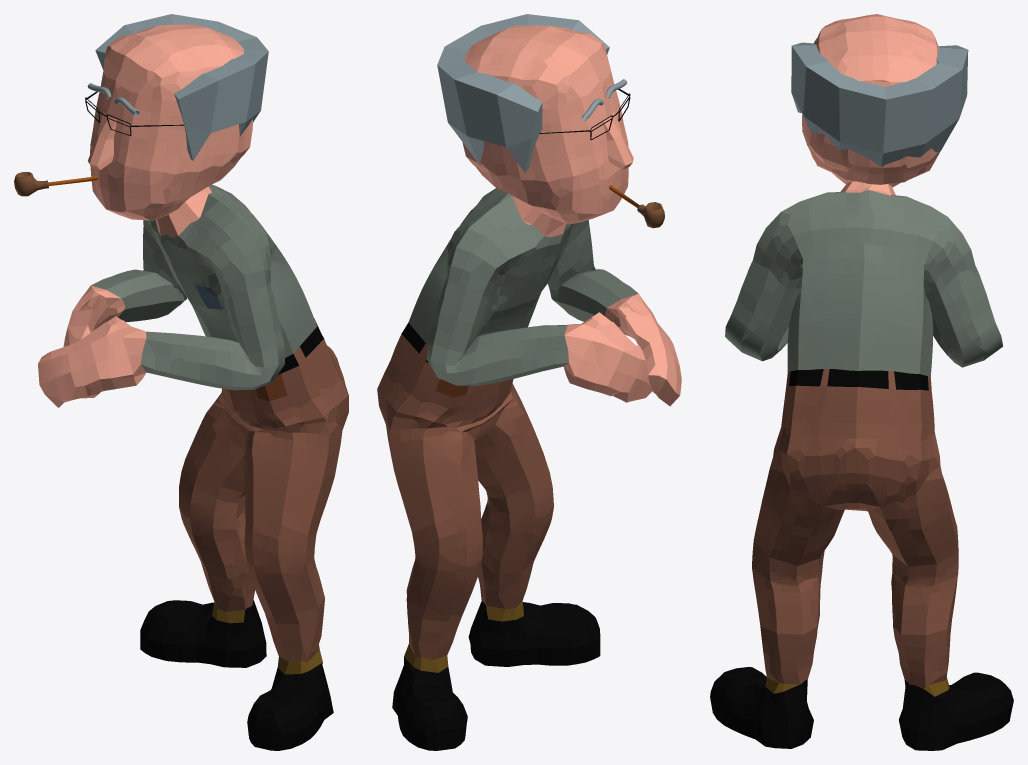
Rendered from NPC_OldMan.obj.
3 views of the same model, side by side, from view 1: azimuth 30°, elevation 25°; view 2: azimuth 150°, elevation 25°; view 3: azimuth 270°, elevation 25° (orthographic).
Parts seen in each view (by area): view 1: Humanoide_Base_Humanoide_Base_Base_NPC__characterMedium_9cb279e_, Pelo_hair04_boy.001_Pelo_hair04_boy.001_OldmanMaterial_Pelo_hair, nariz_nariz_nariz_nariz_nariz_1.003_nariz_nariz_nariz_n_0930e39_, Pipe_Pipe_OldmanMaterial_Pipe_Pipe_OldmanMaterialmesh; view 2: Humanoide_Base_Humanoide_Base_Base_NPC__characterMedium_9cb279e_, Pelo_hair04_boy.001_Pelo_hair04_boy.001_OldmanMaterial_Pelo_hair, nariz_nariz_nariz_nariz_nariz_1.003_nariz_nariz_nariz_n_0930e39_, Pipe_Pipe_OldmanMaterial_Pipe_Pipe_OldmanMaterialmesh; view 3: Humanoide_Base_Humanoide_Base_Base_NPC__characterMedium_9cb279e_, Pelo_hair04_boy.001_Pelo_hair04_boy.001_OldmanMaterial_Pelo_hair.
Part boxes in pixels (left/top/right/bottom): Humanoide_Base_Humanoide_Base_Base_NPC__characterMedium_9cb279e_: left=38, top=24, right=348, bottom=750; Pelo_hair04_boy.001_Pelo_hair04_boy.001_OldmanMaterial_Pelo_hair: left=95, top=14, right=268, bottom=160; nariz_nariz_nariz_nariz_nariz_1.003_nariz_nariz_nariz_n_0930e39_: left=88, top=112, right=116, bottom=170; Pipe_Pipe_OldmanMaterial_Pipe_Pipe_OldmanMaterialmesh: left=14, top=172, right=98, bottom=196; Humanoide_Base_Humanoide_Base_Base_NPC__characterMedium_9cb279e_: left=377, top=25, right=681, bottom=750; Pelo_hair04_boy.001_Pelo_hair04_boy.001_OldmanMaterial_Pelo_hair: left=437, top=14, right=609, bottom=172; nariz_nariz_nariz_nariz_nariz_1.003_nariz_nariz_nariz_n_0930e39_: left=603, top=111, right=633, bottom=169; Pipe_Pipe_OldmanMaterial_Pipe_Pipe_OldmanMaterialmesh: left=609, top=185, right=664, bottom=228; Humanoide_Base_Humanoide_Base_Base_NPC__characterMedium_9cb279e_: left=710, top=14, right=1013, bottom=750; Pelo_hair04_boy.001_Pelo_hair04_boy.001_OldmanMaterial_Pelo_hair: left=791, top=42, right=968, bottom=166.
Bounding box in the file's own units: 16.14 × 35.51 × 14.66.
